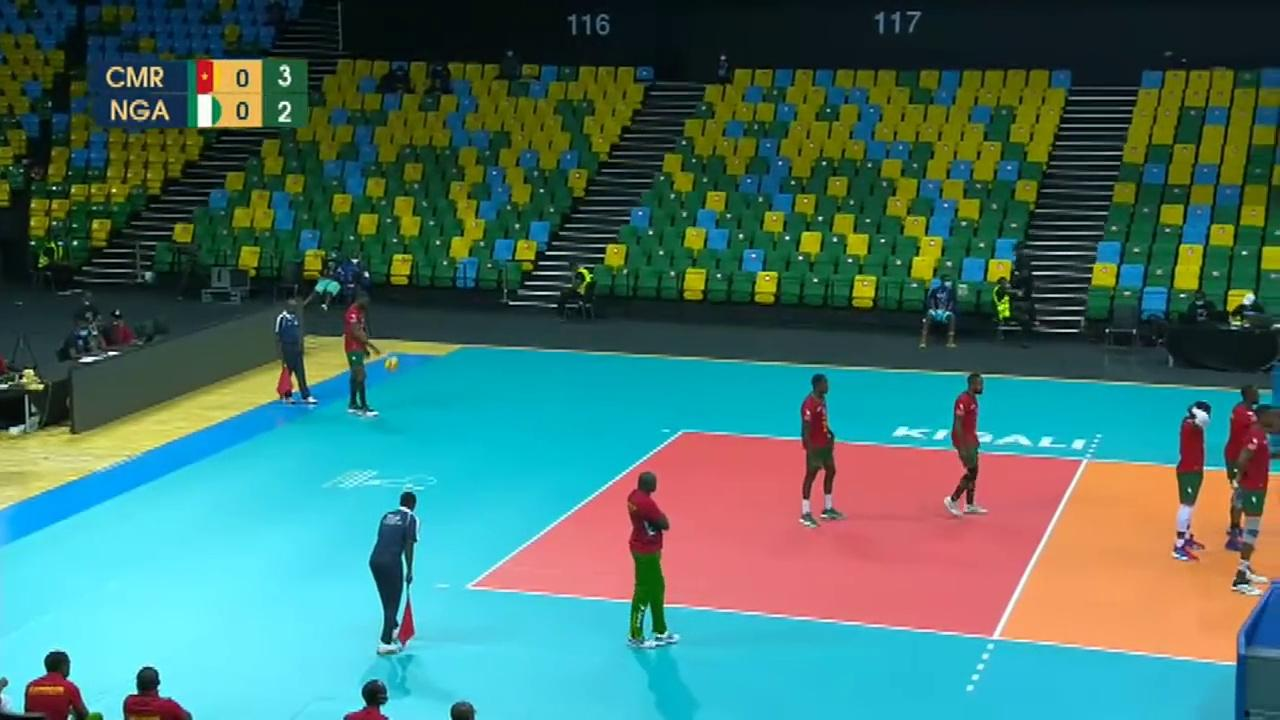player: (1231, 402, 1279, 598), (1223, 383, 1264, 554), (343, 286, 394, 416), (798, 379, 842, 524), (1172, 403, 1211, 557), (948, 376, 986, 515)
refree: (367, 490, 420, 650), (274, 304, 313, 405)
